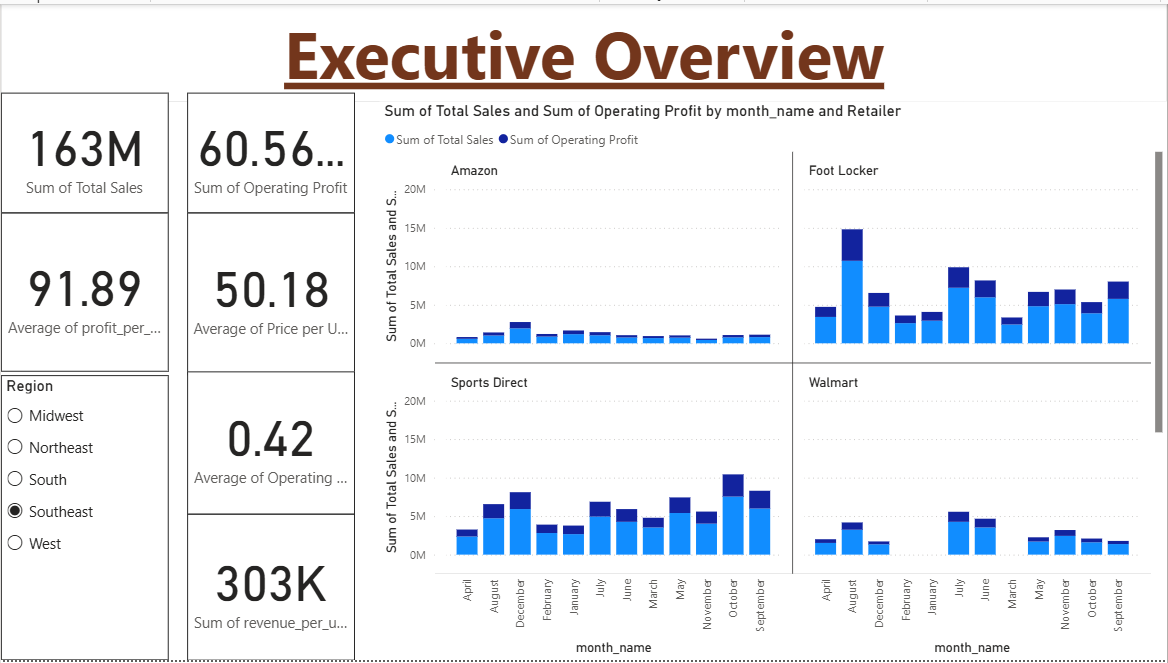

The dashboard page shown, as its layout file describes it:
{"tool":"powerbi","page":{"name":"Page 1","canvas":[1280,720],"ordinal":0},"visuals":[{"type":"textbox","box":[0,0,1280.3,107],"z":0},{"type":"card","fields":{"Values":["Sum(output.Total Sales)"]},"box":[0,97.4,183.9,131.7],"z":1000},{"type":"card","fields":{"Values":["Sum(output.Operating Profit)"]},"box":[204.5,97.4,183.9,131.7],"z":2000},{"type":"card","fields":{"Values":["Avg(output.Price per Unit)"]},"box":[204.5,229.2,183.9,178.4],"z":3000},{"type":"card","fields":{"Values":["Avg(output.profit_per_unit)"]},"box":[0,229.2,183.9,174.3],"z":4000},{"type":"card","fields":{"Values":["Avg(output.Operating Margin)"]},"box":[204.5,403.4,183.9,156.4],"z":5000},{"type":"card","fields":{"Values":["Sum(output.revenue_per_unit)"]},"box":[204.5,559.9,183.9,160.5],"z":6000},{"type":"lineStackedColumnComboChart","fields":{"Category":["output.month_name"],"Y":["Sum(output.Total Sales)","Sum(output.Operating Profit)"],"Rows":["output.Retailer"]},"box":[415.8,107,864.5,613.4],"z":7000},{"type":"listSlicer","fields":{"Values":["output.Region"]},"box":[0,407.5,183.9,312.9],"z":8000}]}

Visuals, with their boxes in screenshot pixels (x1, y1, x2, y2), scaled from the page's 1280x720 canvas onto the 1168x663 screenshot:
textbox: 0/0/1167/99
card - Sum(output.Total Sales): 0/90/168/211
card - Sum(output.Operating Profit): 187/90/354/211
card - Avg(output.Price per Unit): 187/211/354/375
card - Avg(output.profit_per_unit): 0/211/168/372
card - Avg(output.Operating Margin): 187/371/354/515
card - Sum(output.revenue_per_unit): 187/516/354/662
lineStackedColumnComboChart - output.month_name x Sum(output.Total Sales): 379/99/1167/662
listSlicer - output.Region: 0/375/168/662
